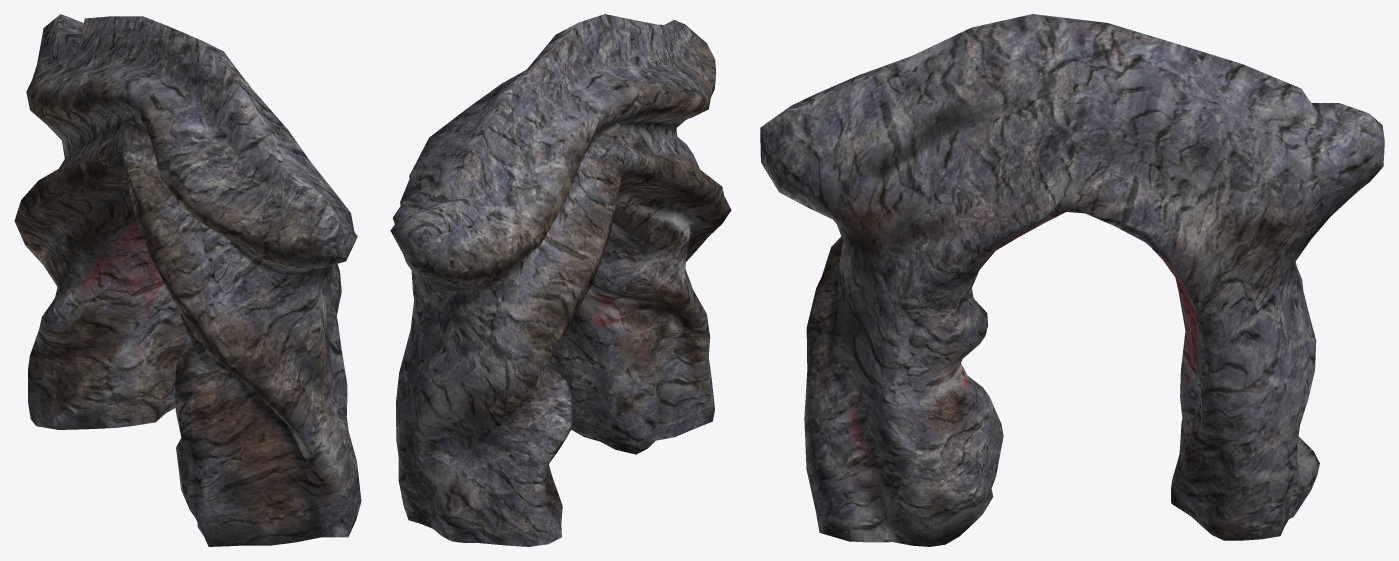
The model's file is CongMap2.fbx.
3 views of the same model, side by side, from view 1: azimuth 30°, elevation 25°; view 2: azimuth 150°, elevation 25°; view 3: azimuth 270°, elevation 25° (orthographic). The views are drawn at different scales.
Parts seen in each view (by area): view 1: CONG; view 2: CONG; view 3: CONG.
Boxes of the visible parts, box(x1,y1,x2,y2) form: CONG: box(14, 14, 361, 546); CONG: box(390, 14, 731, 546); CONG: box(760, 14, 1384, 546).
Bounding box in the file's own units: 4.77 × 10.95 × 12.47.
Materials: 1 (1 with a texture image).
